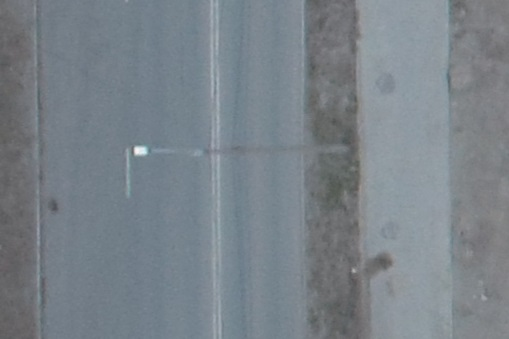opora: (133, 141, 350, 162)
